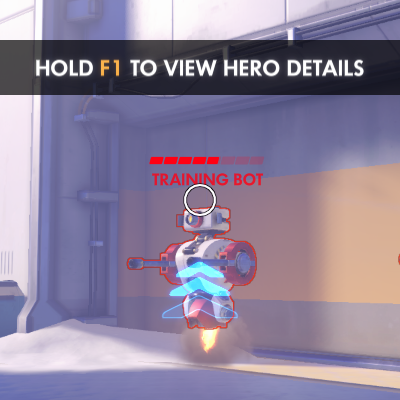hpbar: (149, 156, 265, 166)
